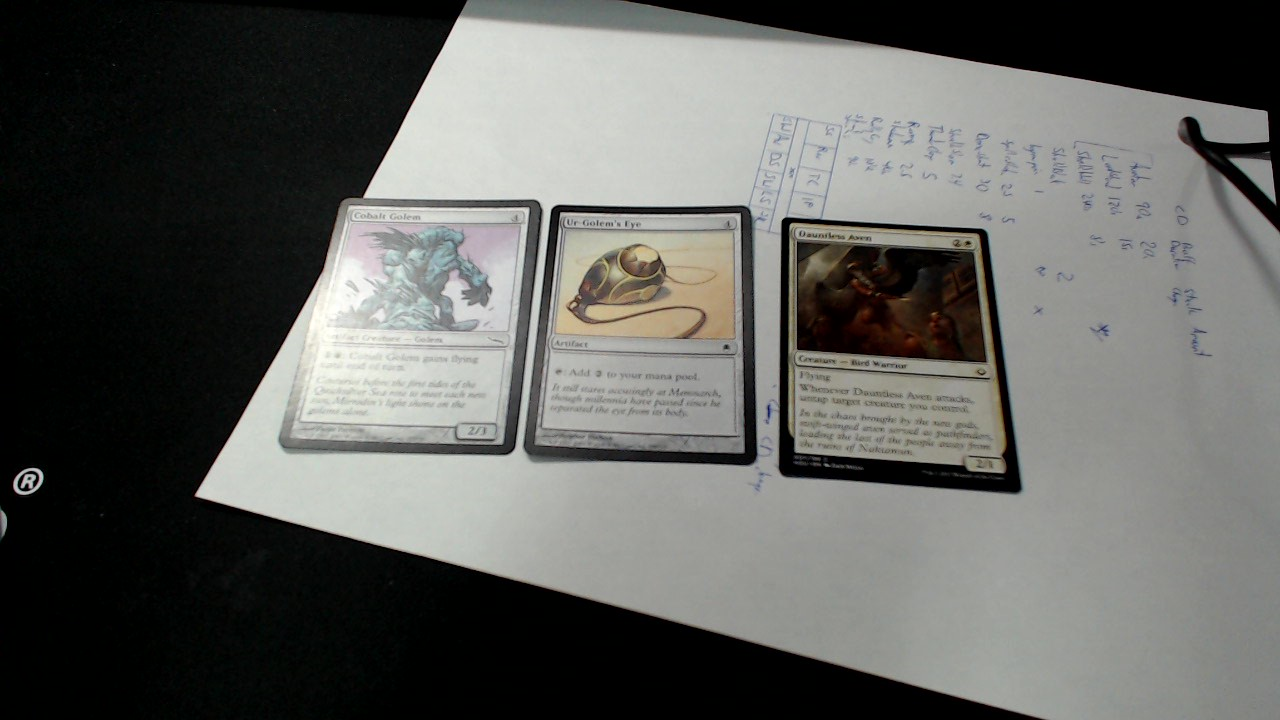MTG Card: (277, 197, 544, 457), (777, 217, 1025, 495), (521, 202, 760, 466)
